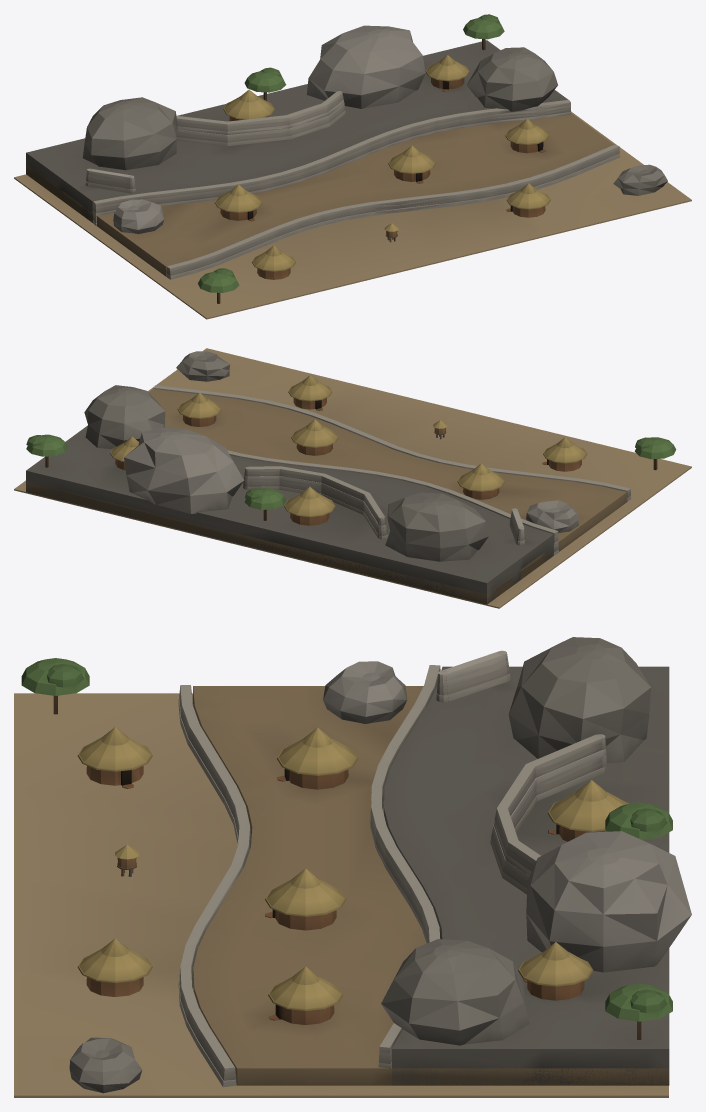
Rendered from eastern-ruins.glb.
3 views of the same model, one above another, from view 1: azimuth 30°, elevation 25°; view 2: azimuth 150°, elevation 25°; view 3: azimuth 270°, elevation 25° (orthographic). The views are drawn at different scales.
Parts seen in each view (by area): view 1: p0_slope, p1_terrace-walls, p2_houses; view 2: p0_slope, p2_houses, p1_terrace-walls; view 3: p0_slope, p2_houses, p1_terrace-walls.
Part boxes in pixels (bbox=[...]): p0_slope: bbox=[14, 25, 691, 319]; p1_terrace-walls: bbox=[85, 91, 620, 279]; p2_houses: bbox=[198, 14, 550, 303]; p0_slope: bbox=[14, 348, 691, 608]; p2_houses: bbox=[26, 375, 676, 525]; p1_terrace-walls: bbox=[153, 385, 631, 555]; p0_slope: bbox=[14, 637, 691, 1097]; p2_houses: bbox=[21, 658, 672, 1039]; p1_terrace-walls: bbox=[178, 650, 607, 1087].
Size of the model in its own units: 80 by 11.87 by 56.94.
